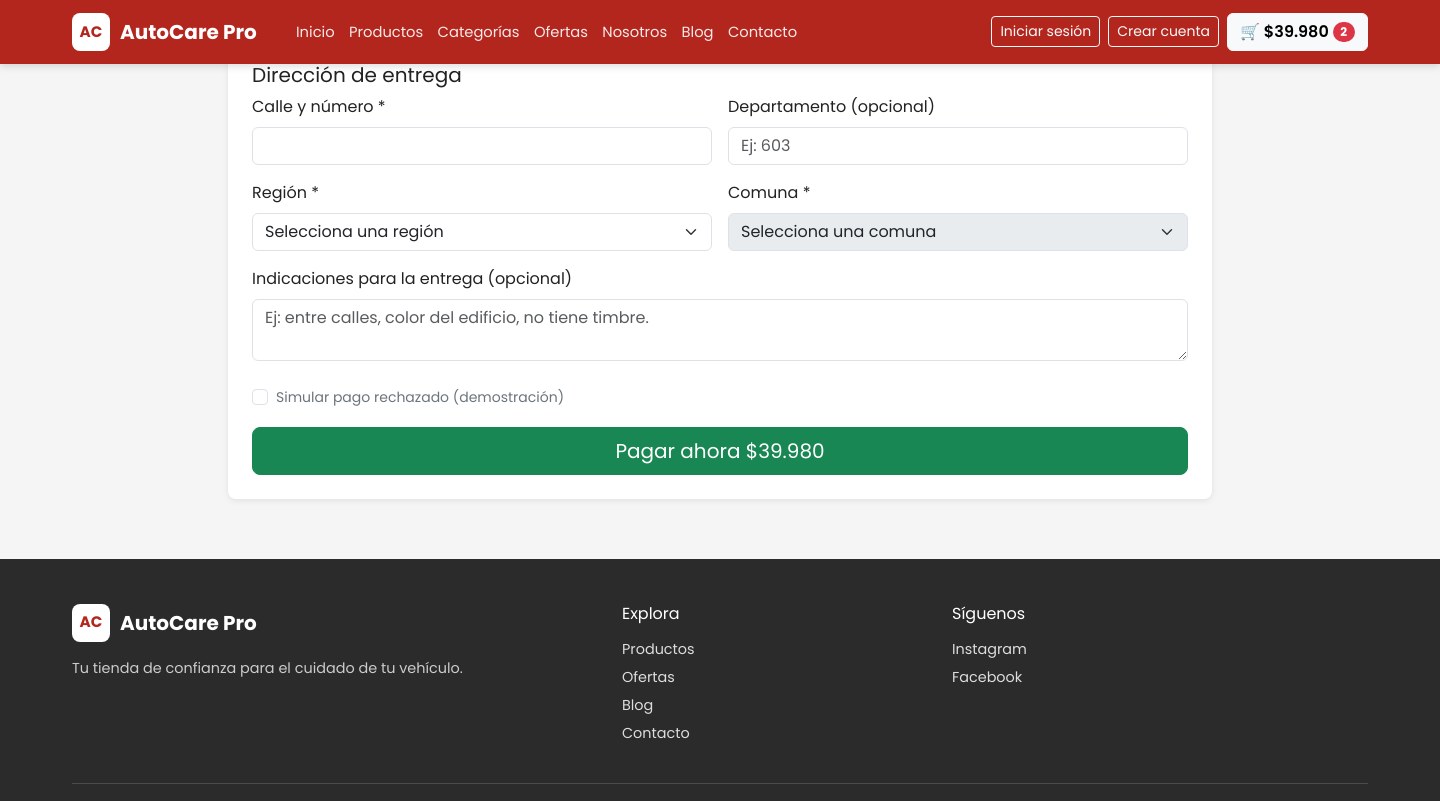
Checkout y resultado de la compra › muestra los errores de validación y no crea la orden
(page scrolled)
Click the button "Pagar ahora $39.980": (720, 451) [252,427,1188,475]
(page scrolled)
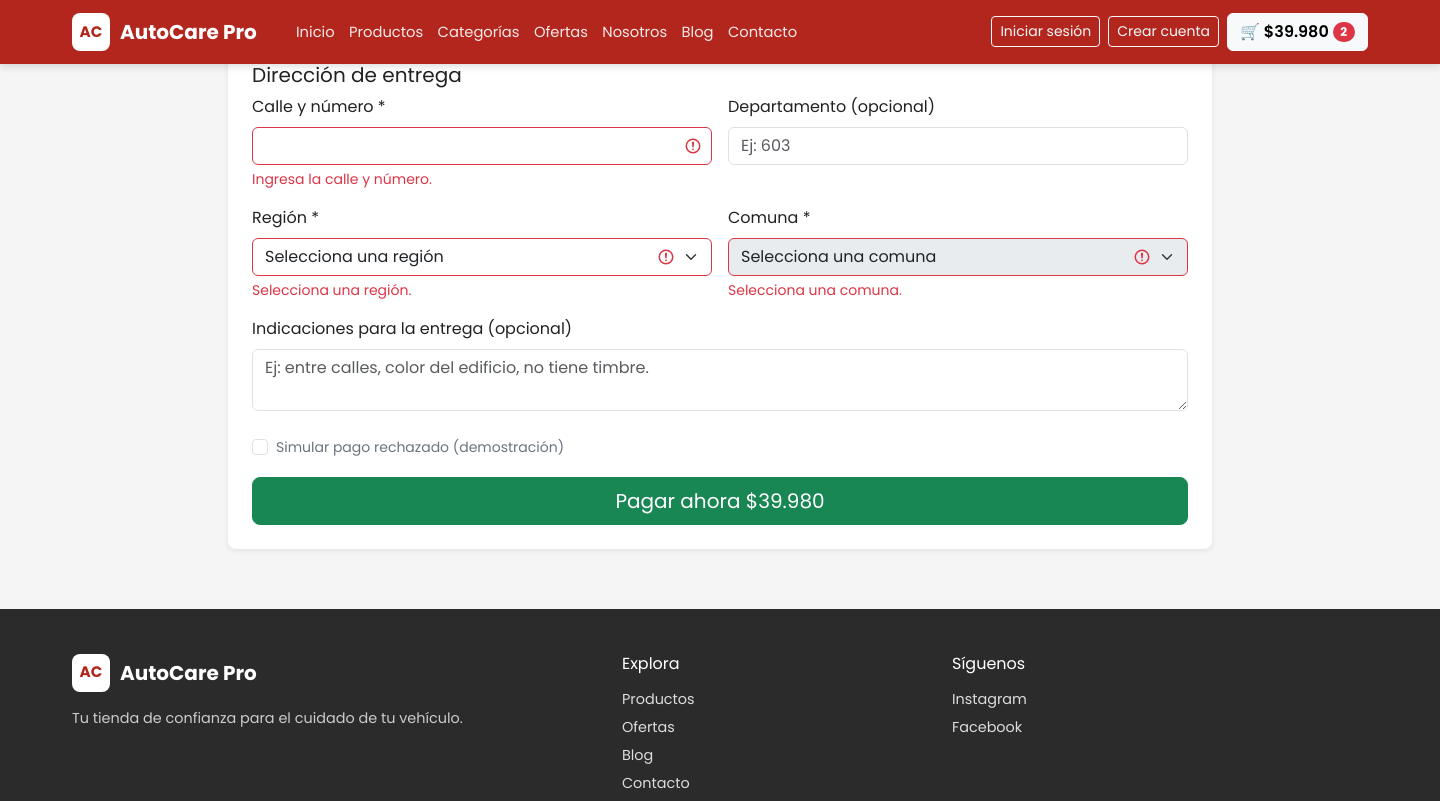
Check: the text "Selecciona una región." is shown, box [252,280,411,300]
